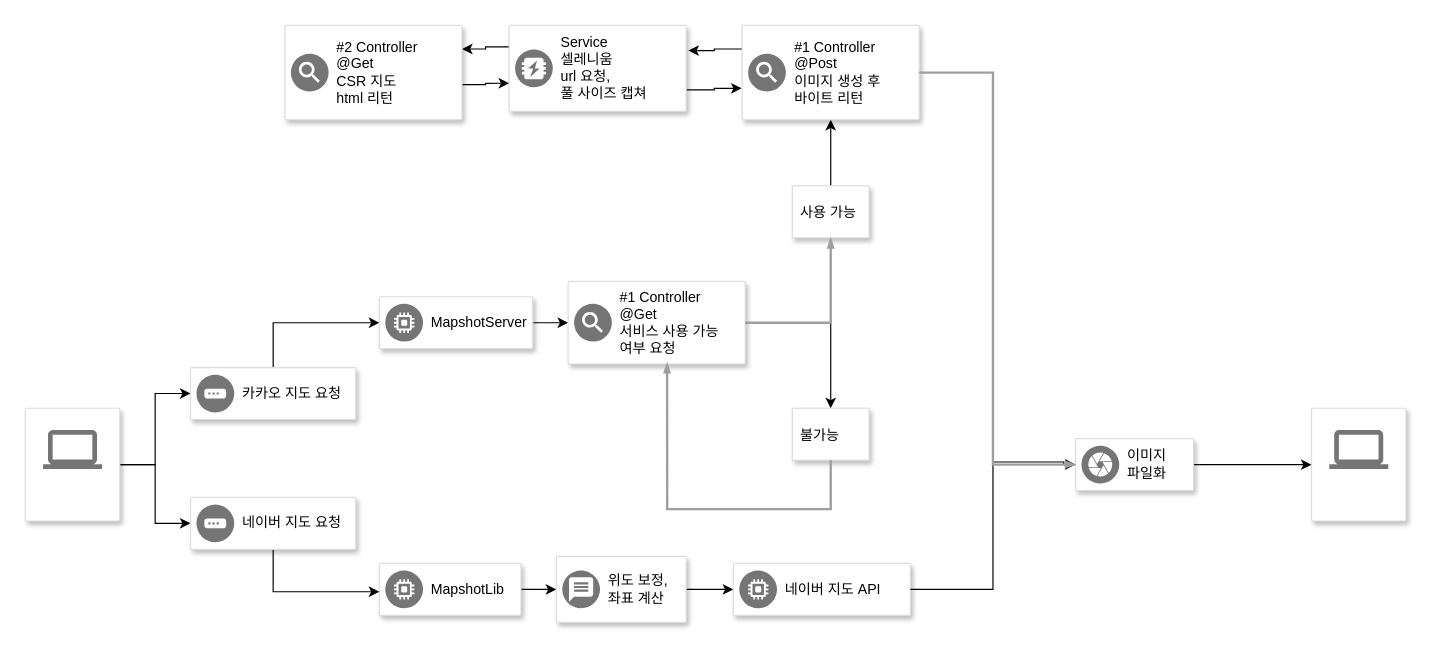
Some shapes in this 1434 by 651 pixel diagram are drawn without their labels. Each missing label, with the centre of its shape:
사용자 지도 요청: the point at 73,465
사용자 지도 전달: the point at 1359,465
